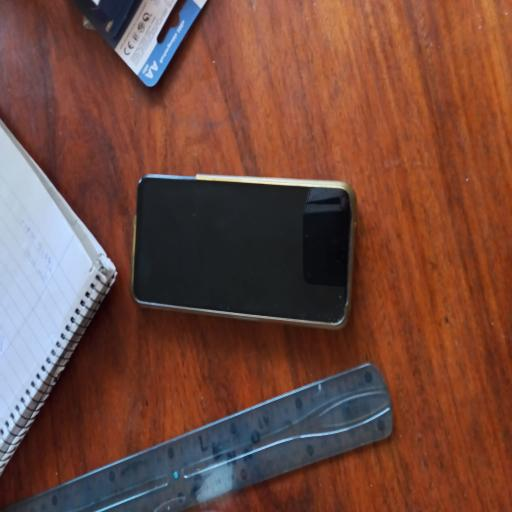phone: (131, 175, 355, 327)
